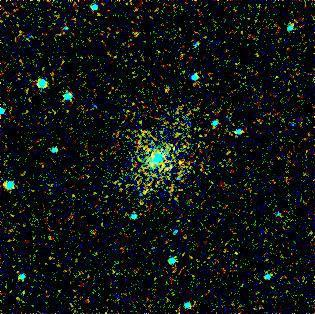star: (166, 146, 196, 176)
